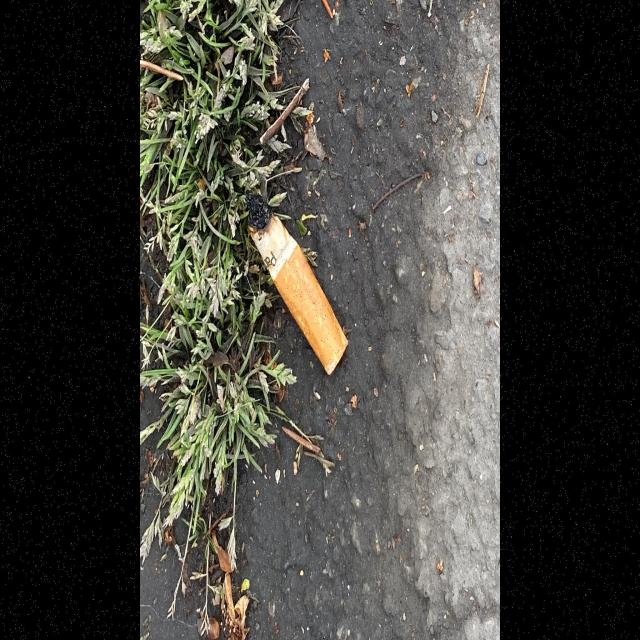other waste: (243, 188, 349, 378)
